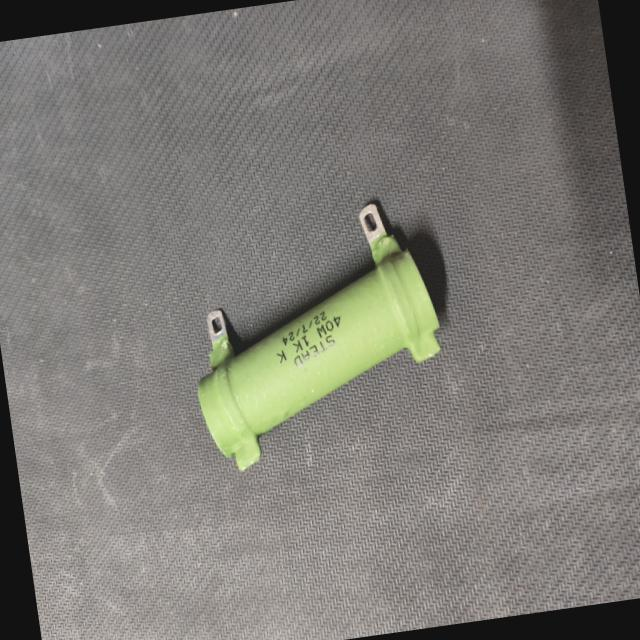resistor: (164, 185, 465, 482)
